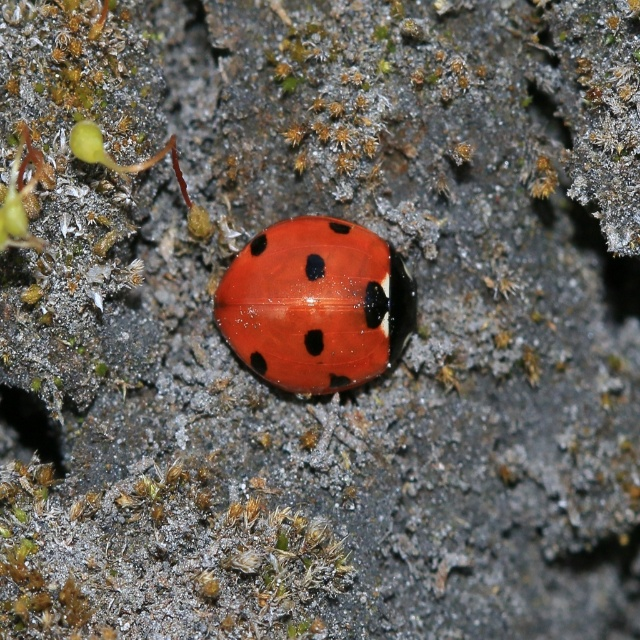Ladybug: (214, 214, 419, 399)
